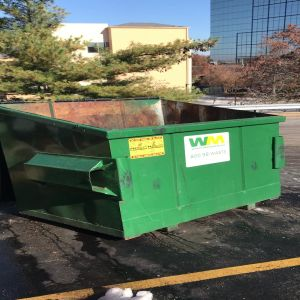Dumpster: (1, 96, 288, 246)
